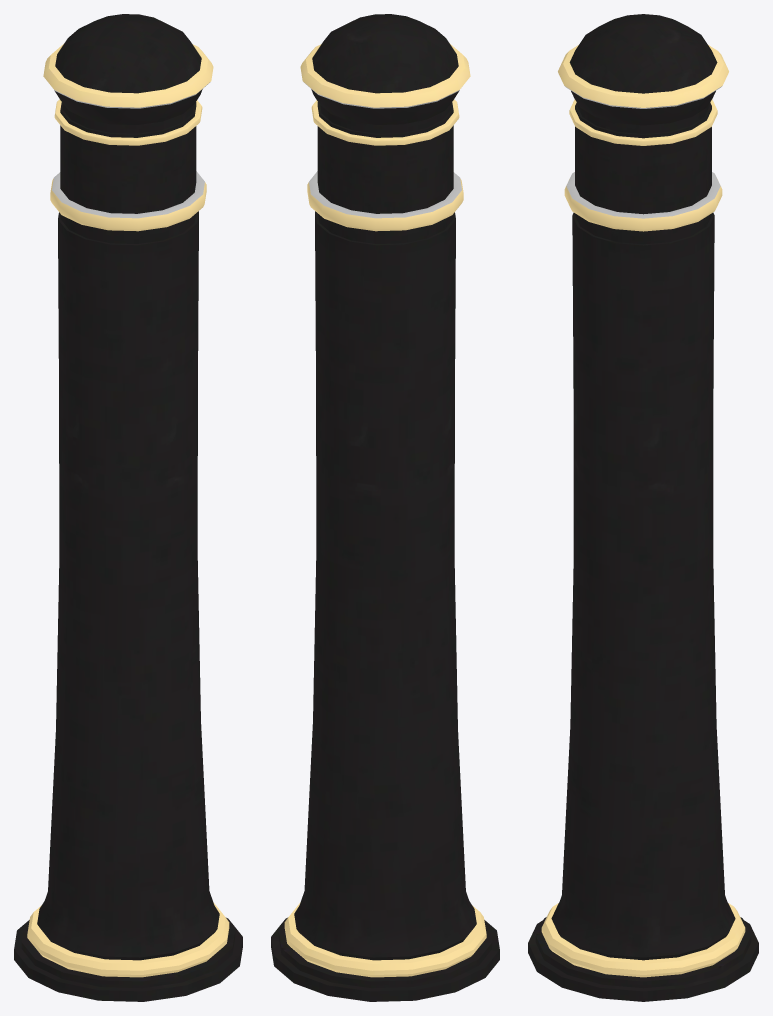
Rendered from royal-bollard.glb.
3 renders of one model, left to right at view 1: azimuth 30°, elevation 25°; view 2: azimuth 150°, elevation 25°; view 3: azimuth 270°, elevation 25°, orthographic.
Visible parts, largest first — view 1: defaultMaterial; view 2: defaultMaterial; view 3: defaultMaterial.
Part boxes in pixels (x1,y1,x2,y2): defaultMaterial: [14, 14, 242, 1001]; defaultMaterial: [271, 14, 499, 1001]; defaultMaterial: [528, 14, 758, 1001].
Size of the model in its own units: 0.2249 by 1 by 0.2249.
1 material, 1 textured.
